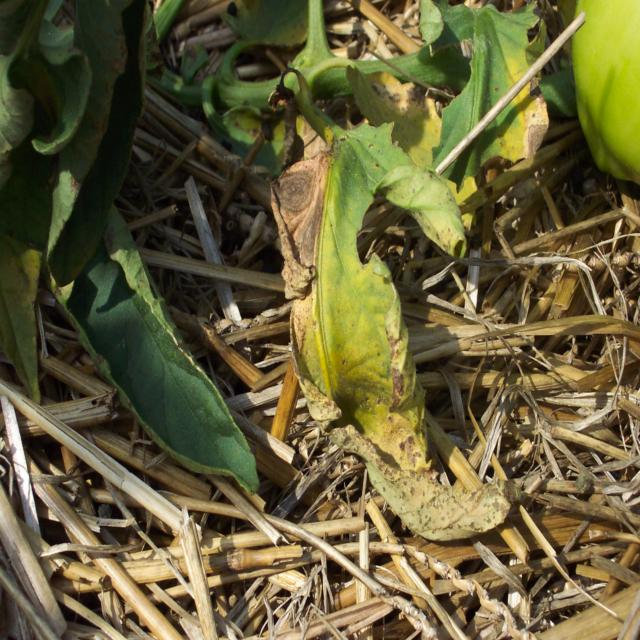Early_blight: (286, 323, 521, 545), (268, 142, 335, 364), (345, 66, 438, 125), (505, 57, 545, 166)
